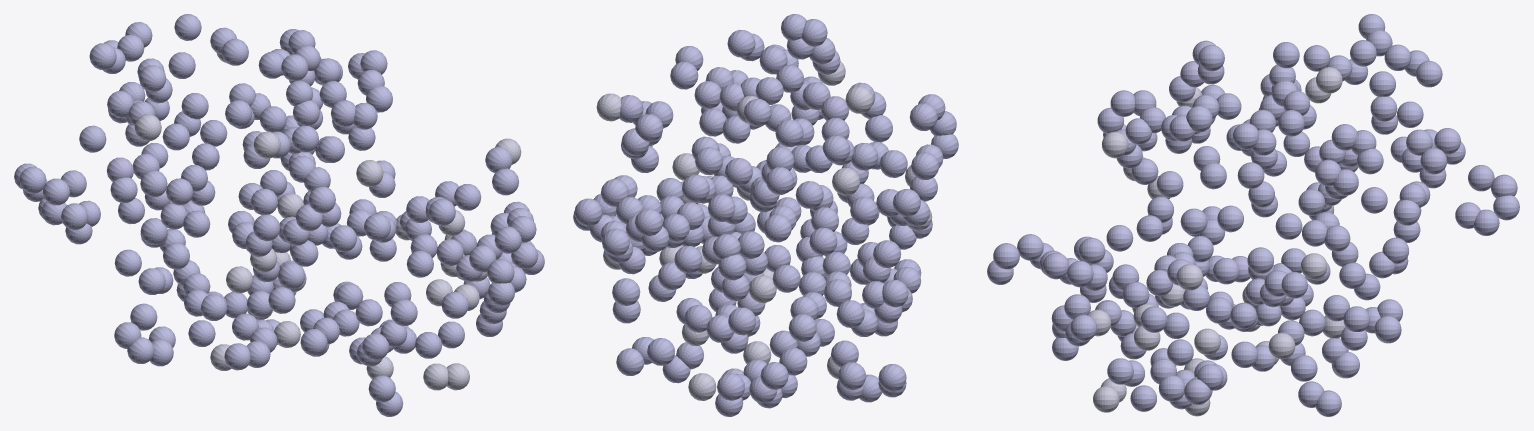
Rendered from 1lyz__spheres__b-factor__H.glb.
The picture shows the model from 3 angles, left to right: view 1: azimuth 30°, elevation 25°; view 2: azimuth 150°, elevation 25°; view 3: azimuth 270°, elevation 25°; orthographic projection. The views are drawn at different scales.
Parts seen in each view (by area): view 1: Renderer Node; view 2: Renderer Node; view 3: Renderer Node.
Boxes of the visible parts, x1,y1,x2,y2 form: Renderer Node: (14,14,544,416); Renderer Node: (573,14,958,416); Renderer Node: (987,14,1519,416).
Bounding box in the file's own units: 40.24 × 33.46 × 47.85.
